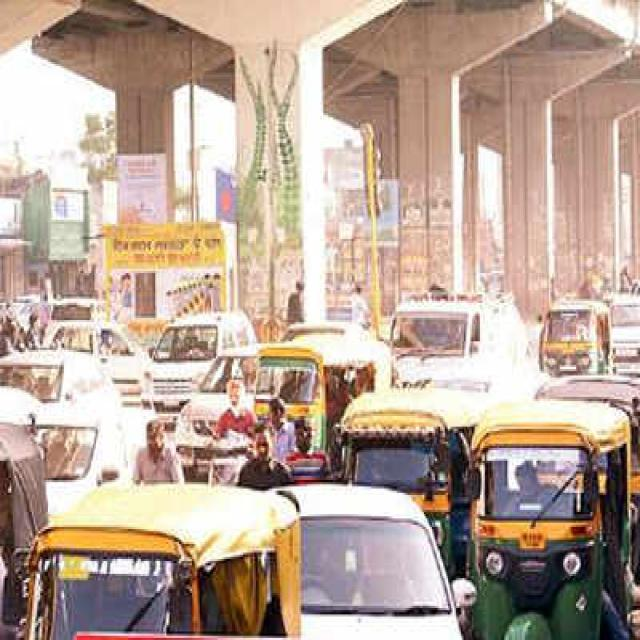autorikshaw: (29, 478, 306, 640), (474, 399, 627, 640), (342, 388, 474, 592)
car: (144, 309, 256, 427)
